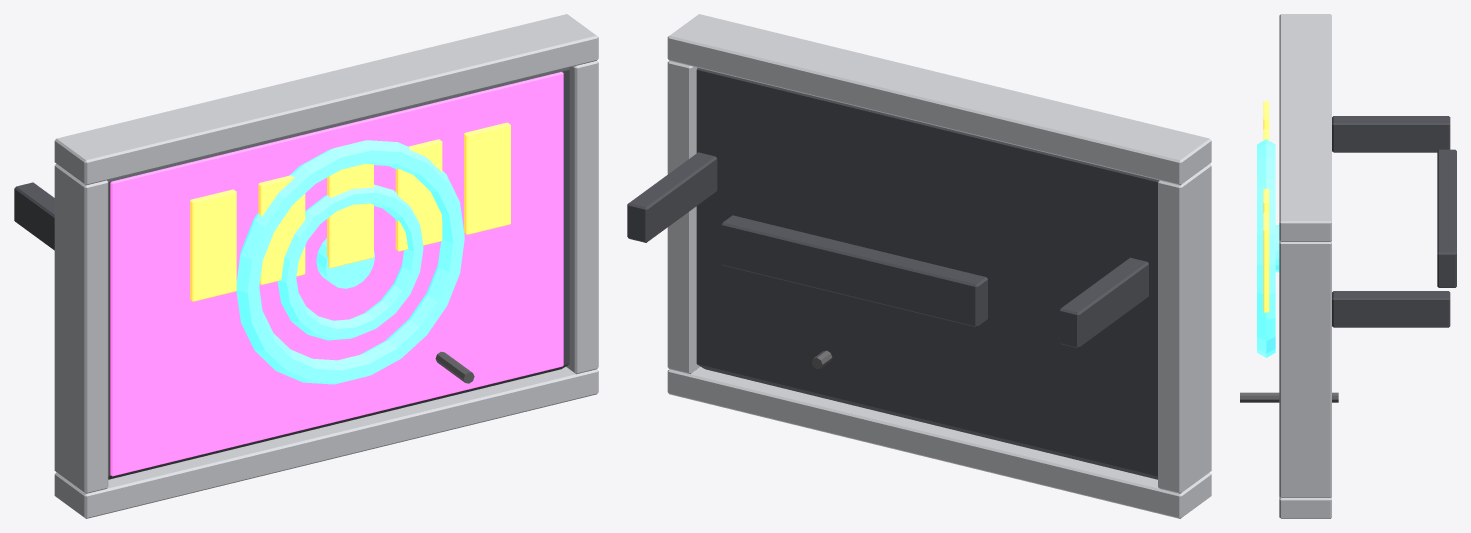
File: cyberpunk-apartment-and-neon-block-neon-sign-frame-ea334e2a__37838.glb
3 views of the same model, side by side, from view 1: azimuth 30°, elevation 25°; view 2: azimuth 150°, elevation 25°; view 3: azimuth 270°, elevation 25° (orthographic). The views are drawn at different scales.
Parts seen in each view (by area): view 1: neon-sign-frame; view 2: neon-sign-frame; view 3: neon-sign-frame.
Boxes of the visible parts, x1,y1,x2,y2 form: neon-sign-frame: (14,14,598,518); neon-sign-frame: (627,14,1211,518); neon-sign-frame: (1240,14,1456,518).
Bounding box in the file's own units: 1.5 × 1 × 0.66.
